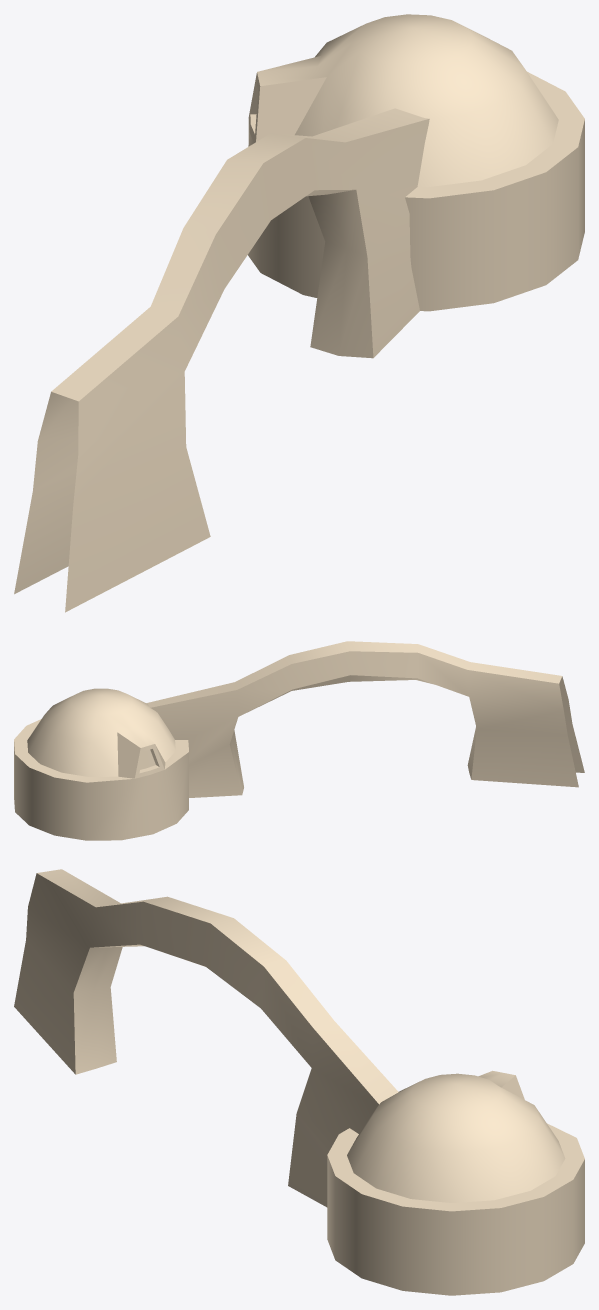
Rendered from house3.glb.
3 renders of one model, top to bottom at view 1: azimuth 30°, elevation 25°; view 2: azimuth 150°, elevation 25°; view 3: azimuth 270°, elevation 25°, orthographic. The views are drawn at different scales.
Visible parts, largest first — view 1: House3; view 2: House3; view 3: House3.
Boxes of the visible parts, box(x1,y1,x2,y2) form: House3: box(14, 14, 584, 612); House3: box(14, 641, 584, 840); House3: box(14, 869, 584, 1295).
Size of the model in its own units: 80.64 by 25.82 by 65.68.
